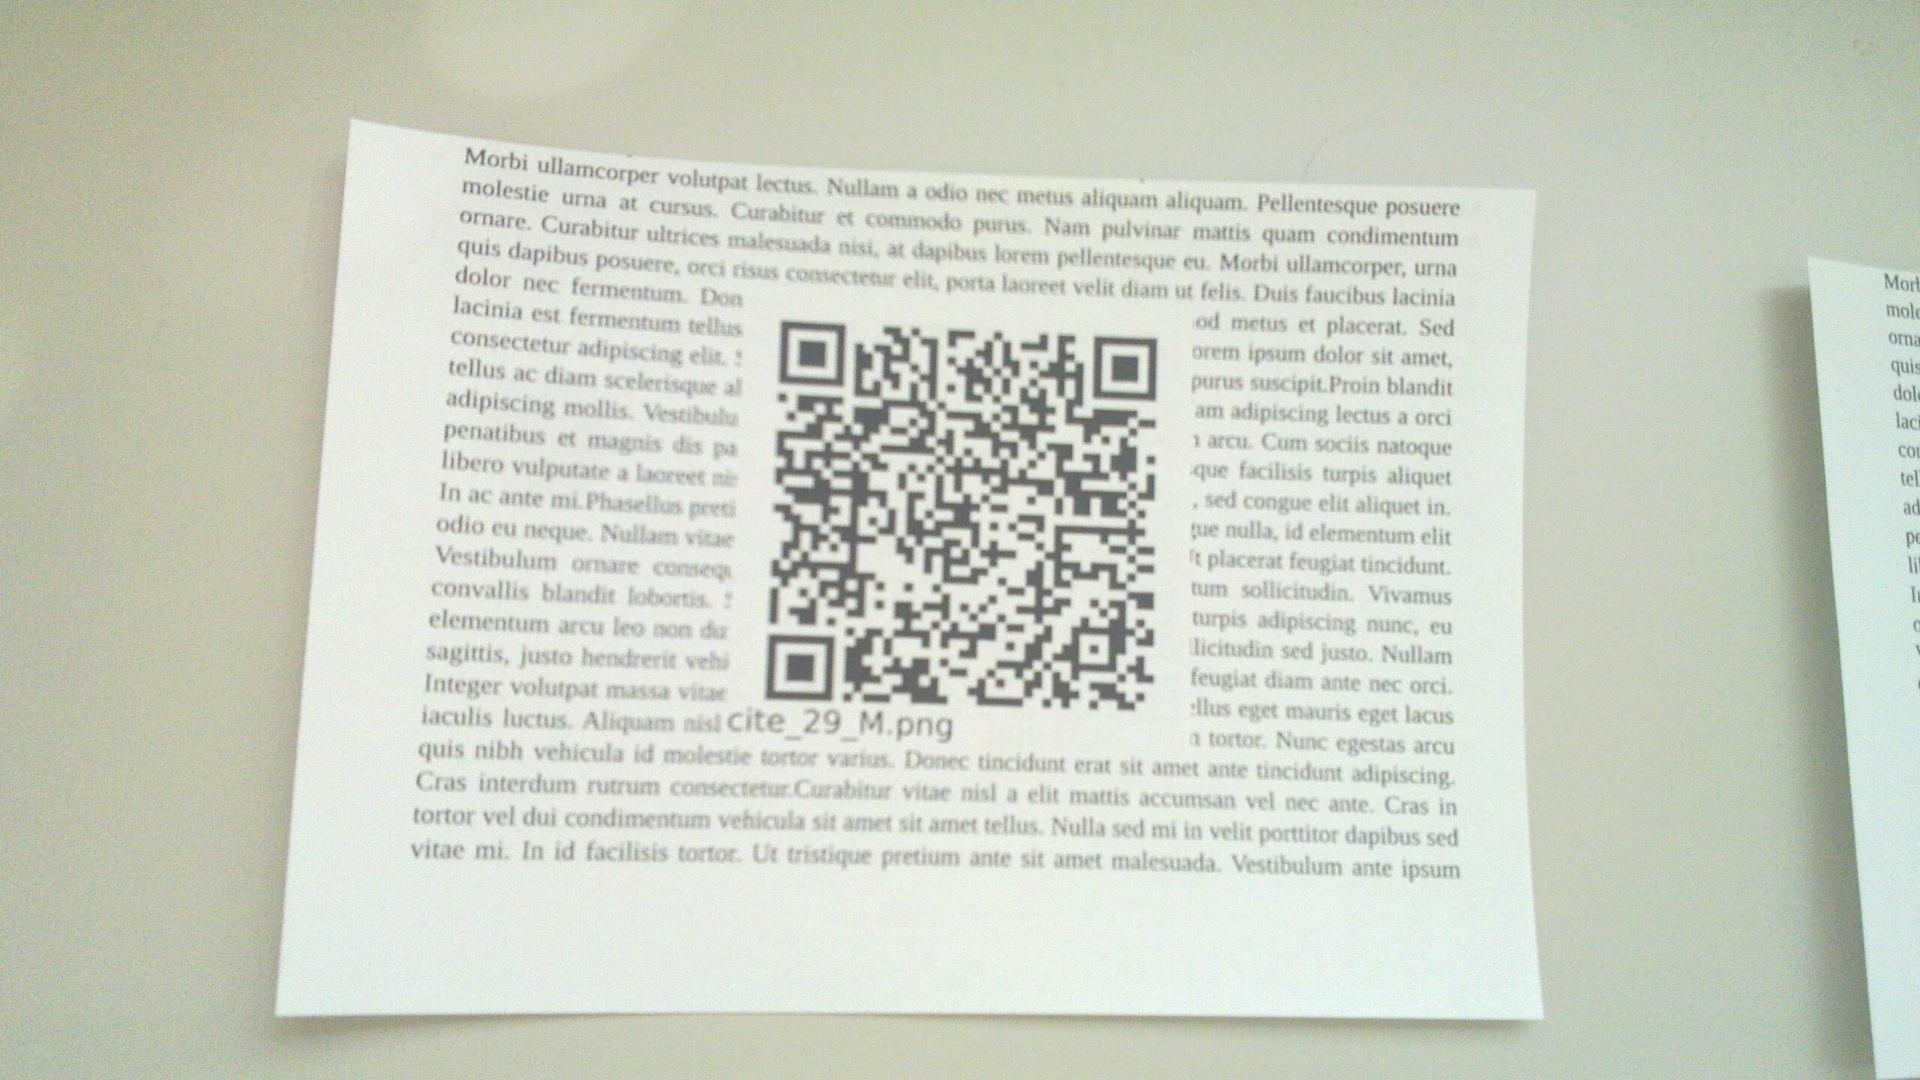Finder pattern: (775, 313, 851, 392), (762, 632, 839, 705), (1091, 331, 1160, 402)
